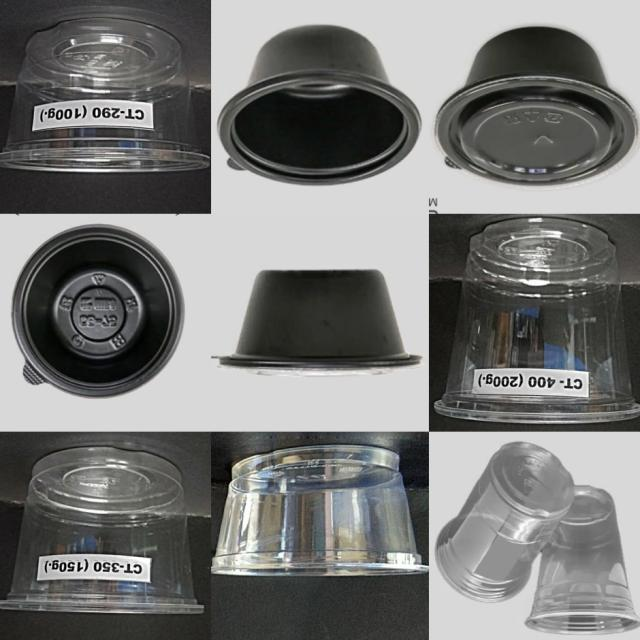plastik: (435, 218, 640, 424), (0, 447, 203, 613), (0, 18, 210, 172), (435, 28, 639, 186), (218, 27, 421, 185), (12, 226, 183, 398), (211, 446, 429, 575), (435, 443, 574, 602), (220, 271, 421, 376), (526, 486, 640, 634)
